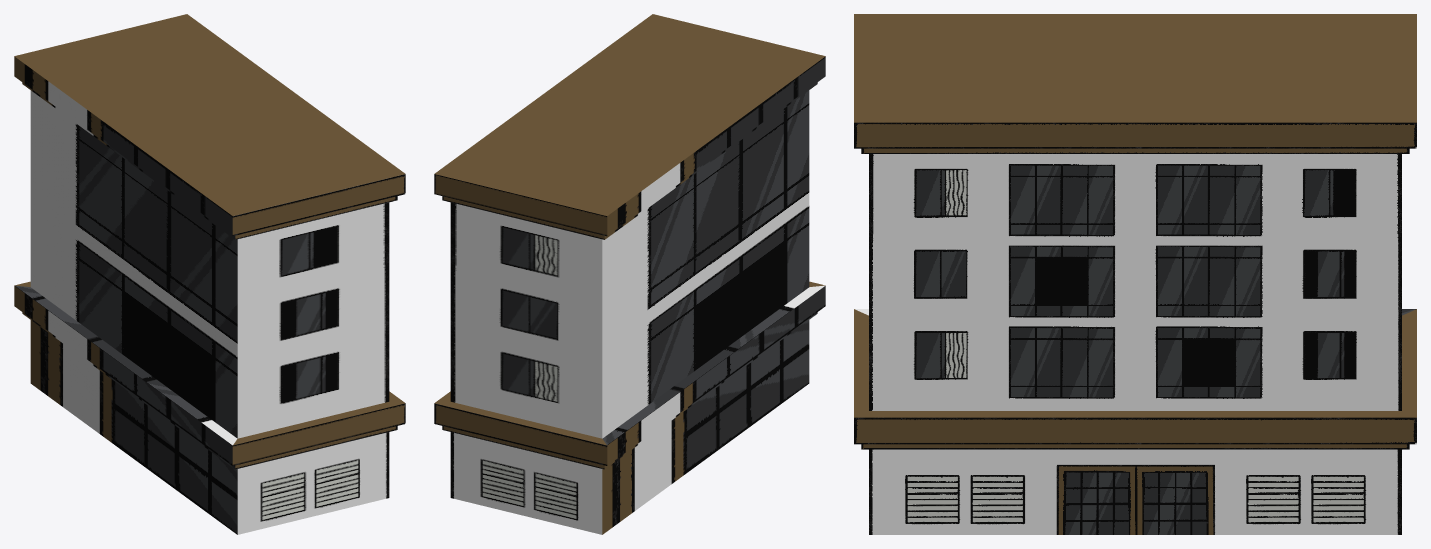
The model's file is predio-3-t.glb.
3 views of the same model, side by side, from view 1: azimuth 30°, elevation 25°; view 2: azimuth 150°, elevation 25°; view 3: azimuth 270°, elevation 25° (orthographic). The views are drawn at different scales.
Visible parts, largest first — view 1: Cube; view 2: Cube; view 3: Cube.
Part boxes in pixels (x1,y1,x2,y2): Cube: [14, 14, 405, 534]; Cube: [434, 14, 825, 534]; Cube: [854, 14, 1416, 534].
Size of the model in its own units: 2.23 by 4.01 by 4.88.
1 material, 1 textured.
